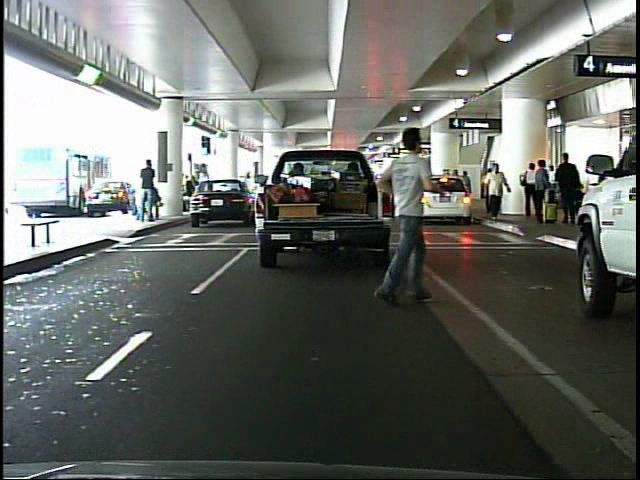person: (365, 120, 448, 323), (553, 147, 584, 229), (482, 157, 513, 228), (139, 159, 162, 223), (518, 157, 540, 221), (534, 158, 550, 225)
